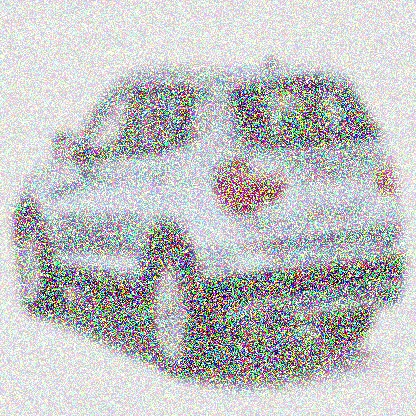Vehicle: (14, 56, 406, 381)
